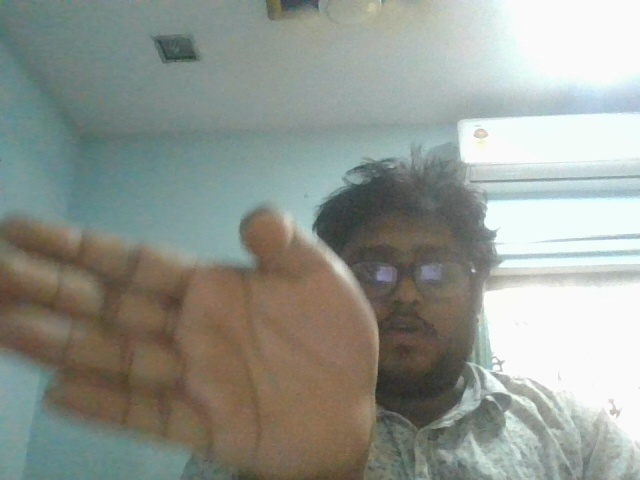RIGHT: (3, 183, 410, 480)
